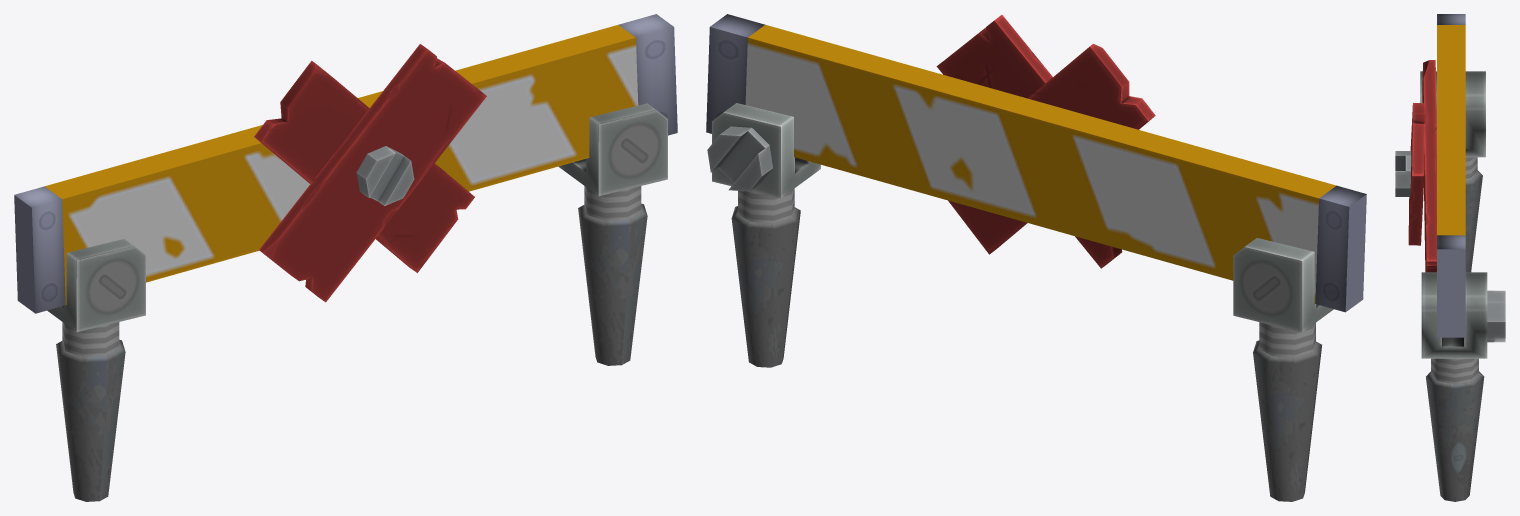
The model's file is hvs_hideout_fence01.fbx.
3 renders of one model, left to right at view 1: azimuth 30°, elevation 25°; view 2: azimuth 150°, elevation 25°; view 3: azimuth 270°, elevation 25°, orthographic. The views are drawn at different scales.
Visible parts, largest first — view 1: hvs_hideout_fence01; view 2: hvs_hideout_fence01; view 3: hvs_hideout_fence01.
Boxes of the visible parts, x1,y1,x2,y2 form: hvs_hideout_fence01: [14, 14, 677, 501]; hvs_hideout_fence01: [706, 14, 1366, 501]; hvs_hideout_fence01: [1395, 14, 1505, 501].
Bounding box in the file's own units: 8.26 × 4.78 × 1.5.
Materials: 1 (1 with a texture image).
